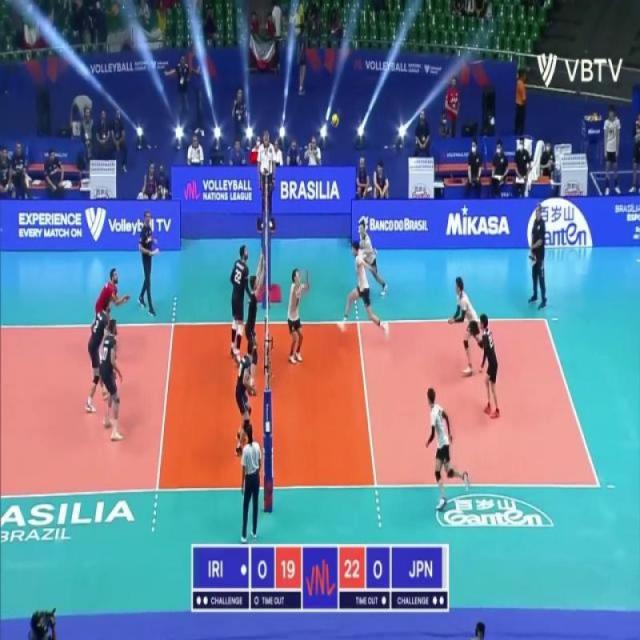volleyball: (330, 113, 340, 129), (588, 112, 600, 122)
